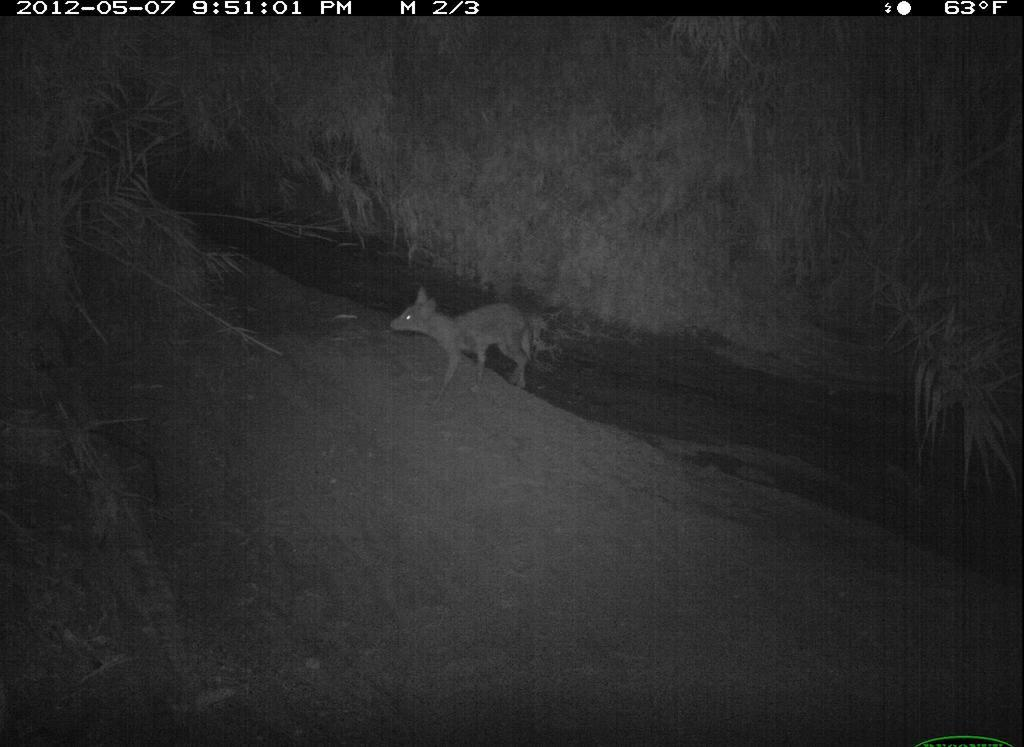coyote: (771, 559, 1024, 747)
